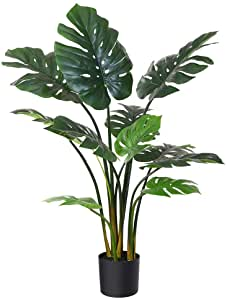plant: (1, 3, 226, 300)
